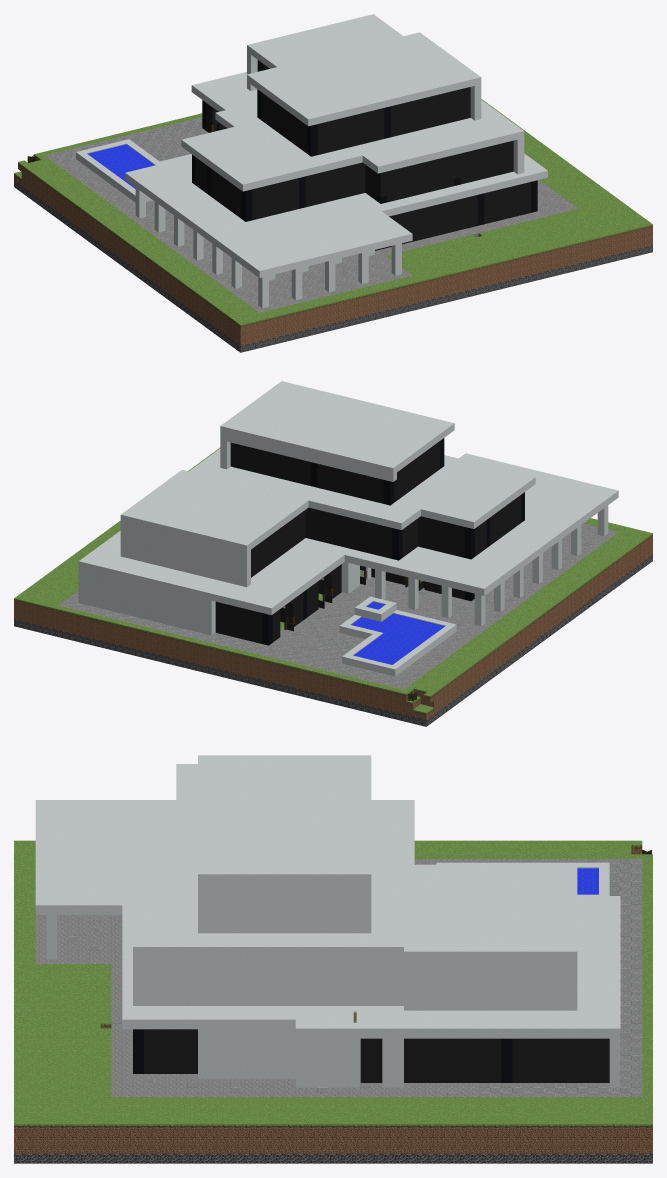
The model's file is House.glb.
3 views of the same model, one above another, from view 1: azimuth 30°, elevation 25°; view 2: azimuth 150°, elevation 25°; view 3: azimuth 270°, elevation 25° (orthographic). The views are drawn at different scales.
Parts seen in each view (by area): view 1: flat__68_0_-15_to_129_255_43; view 2: flat__68_0_-15_to_129_255_43; view 3: flat__68_0_-15_to_129_255_43.
Boxes of the visible parts, bbox=[...] form: flat__68_0_-15_to_129_255_43: bbox=[14, 14, 652, 352]; flat__68_0_-15_to_129_255_43: bbox=[14, 381, 652, 726]; flat__68_0_-15_to_129_255_43: bbox=[14, 755, 652, 1163].
Bounding box in the file's own units: 39.7 × 14.09 × 37.78.
Materials: 11 (11 with a texture image).
